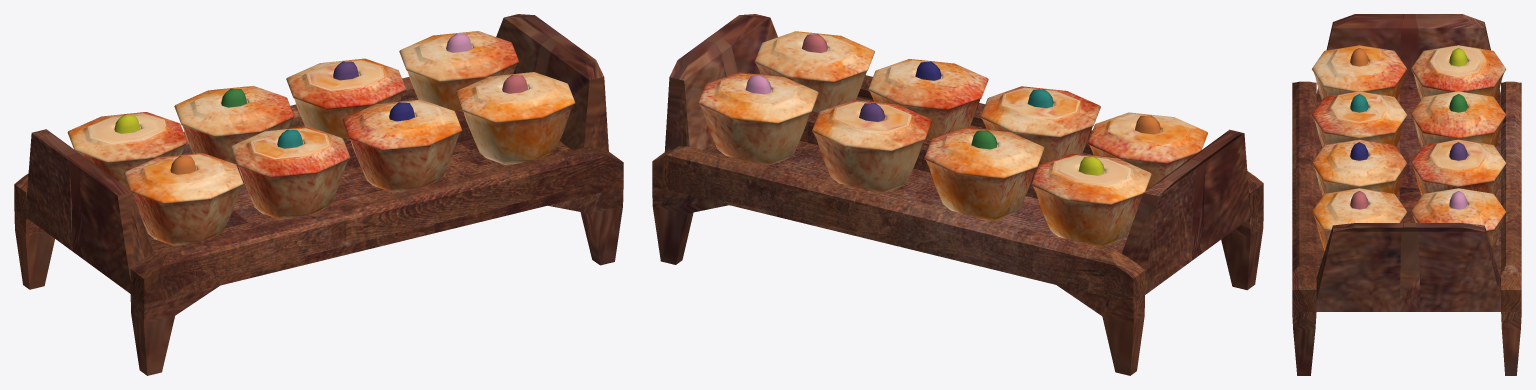
The model's file is gamelan ntable.fbx.
3 views of the same model, side by side, from view 1: azimuth 30°, elevation 25°; view 2: azimuth 150°, elevation 25°; view 3: azimuth 270°, elevation 25° (orthographic). The views are drawn at different scales.
Parts seen in each view (by area): view 1: pCube1, gamelan3, gamelan5, gamelan7, gamelan, gamelan6, gamelan4, gamelan2, gamelan1; view 2: pCube1, gamelan2, gamelan4, gamelan6, gamelan1, gamelan7, gamelan5, gamelan3, gamelan; view 3: pCube1, gamelan5, gamelan4, gamelan3, gamelan2, gamelan1, gamelan, gamelan6, gamelan7.
Boxes of the visible parts, <box> form: pCube1: <box>14,14,623,375</box>; gamelan3: <box>230,127,350,219</box>; gamelan5: <box>342,99,462,192</box>; gamelan7: <box>455,72,575,164</box>; gamelan: <box>123,153,243,245</box>; gamelan6: <box>399,31,519,110</box>; gamelan4: <box>286,58,405,138</box>; gamelan2: <box>174,86,294,164</box>; gamelan1: <box>67,112,187,189</box>; pCube1: <box>652,14,1263,375</box>; gamelan2: <box>924,127,1044,220</box>; gamelan4: <box>812,100,932,193</box>; gamelan6: <box>698,72,818,165</box>; gamelan1: <box>1031,153,1151,246</box>; gamelan7: <box>754,31,874,112</box>; gamelan5: <box>868,59,988,139</box>; gamelan3: <box>980,86,1100,165</box>; gamelan: <box>1087,112,1207,190</box>; pCube1: <box>1292,14,1521,375</box>; gamelan5: <box>1312,139,1406,195</box>; gamelan4: <box>1411,139,1505,195</box>; gamelan3: <box>1312,91,1406,147</box>; gamelan2: <box>1411,91,1506,147</box>; gamelan1: <box>1411,45,1506,99</box>; gamelan: <box>1312,45,1406,99</box>; gamelan6: <box>1411,188,1506,251</box>; gamelan7: <box>1312,188,1406,250</box>.
Size of the model in its own units: 9.51 by 3.24 by 4.32.
Materials: 2 (2 with a texture image).
